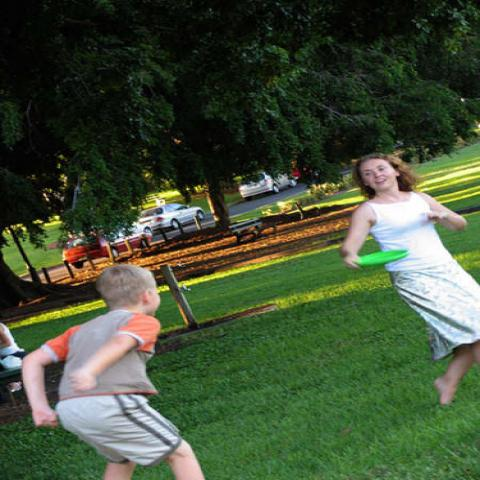car: (64, 230, 153, 269), (135, 203, 207, 232), (236, 170, 298, 203), (114, 221, 155, 237), (291, 165, 311, 178)
